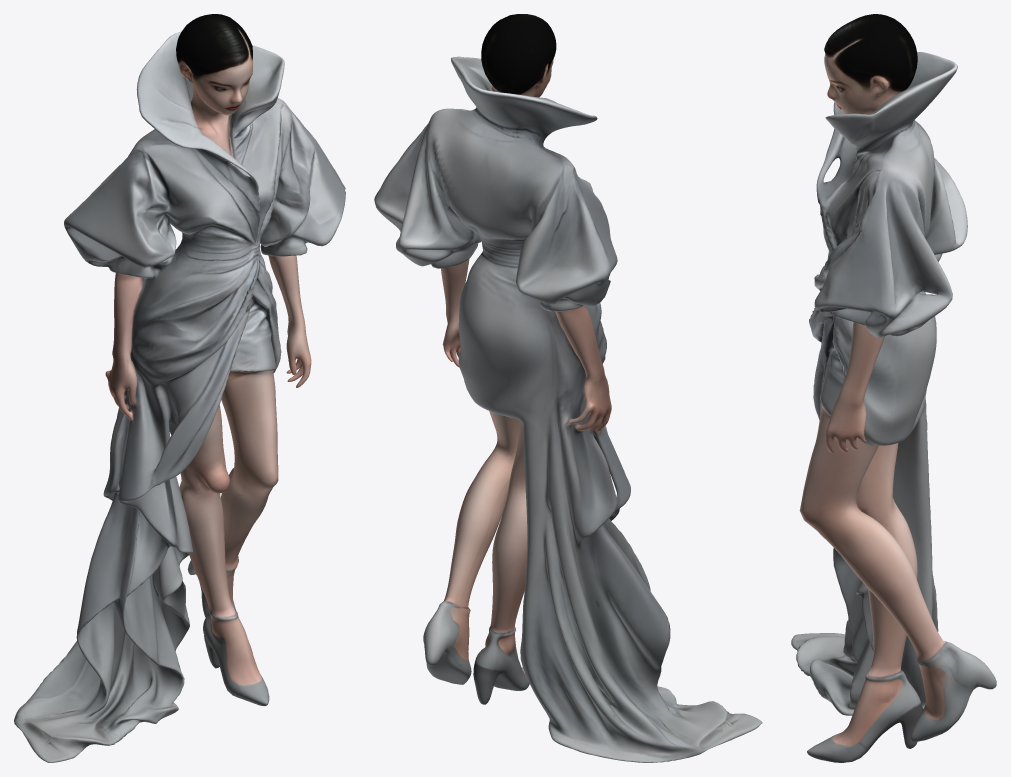
File: artifex-hero.glb
3 renders of one model, left to right at view 1: azimuth 30°, elevation 25°; view 2: azimuth 150°, elevation 25°; view 3: azimuth 270°, elevation 25°, orthographic. The views are drawn at different scales.
Parts seen in each view (by area): view 1: model; view 2: model; view 3: model.
Part boxes in pixels (x1,y1,x2,y2): model: [14, 14, 345, 762]; model: [374, 14, 762, 762]; model: [791, 14, 996, 762].
Bounding box in the file's own units: 1 × 1.9 × 0.4859.
1 material, 1 textured.
